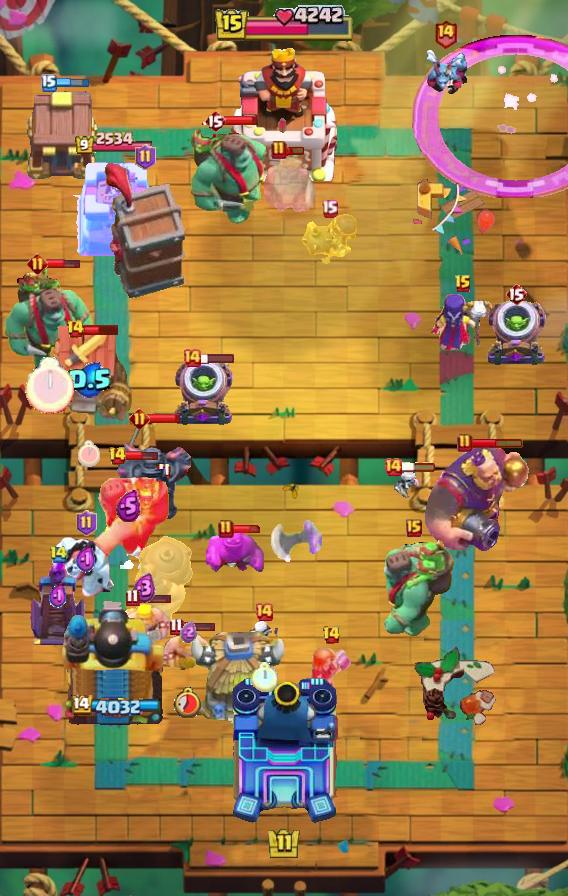archer: (116, 602, 172, 650), (164, 630, 212, 674)
axe: (429, 292, 497, 354)
bomb: (21, 88, 101, 182)
clock: (213, 5, 355, 45)
dart-goblin: (103, 161, 187, 299)
electro-spirit: (67, 362, 114, 398), (115, 490, 140, 522), (132, 573, 155, 603), (76, 545, 96, 575), (49, 583, 67, 610), (179, 621, 197, 643)
elixir: (25, 358, 75, 415), (173, 686, 203, 718), (251, 662, 278, 692), (78, 440, 100, 467)
emote: (472, 437, 525, 449), (83, 324, 120, 337), (46, 258, 82, 270), (199, 352, 235, 364), (124, 450, 160, 462), (401, 461, 437, 473), (137, 592, 172, 604), (55, 77, 90, 88), (181, 621, 216, 632), (224, 115, 258, 126), (147, 413, 181, 424), (231, 524, 263, 534), (285, 145, 305, 156)
goblin-ball: (299, 212, 359, 268)
goblin-cage: (484, 298, 548, 368), (172, 358, 236, 428)
golemite: (113, 417, 191, 521)
heal-spirit: (247, 618, 281, 654), (394, 470, 420, 499)
hog-rider: (310, 647, 352, 697)
ice-spirit-evolution-symbol: (28, 555, 88, 647)
king-tower: (228, 676, 340, 826), (231, 45, 337, 181)
knight-evolution: (412, 34, 568, 197)
lava-hound: (3, 263, 95, 375), (186, 118, 274, 228), (84, 459, 172, 569), (372, 536, 456, 642)
lightning: (420, 440, 532, 552)
mortar-evolution: (261, 151, 317, 217)
prince: (188, 632, 290, 728)
queen-tower: (69, 158, 159, 256)
rage: (54, 535, 118, 601)
royal-delivery: (423, 50, 467, 96)
royal-giant: (270, 518, 322, 568)
selected: (68, 694, 159, 717), (74, 131, 154, 156)
sparky: (46, 325, 132, 423)
text: (433, 18, 458, 49), (135, 144, 156, 170), (75, 510, 96, 536), (204, 109, 226, 133), (505, 282, 527, 306), (27, 253, 48, 275), (130, 407, 151, 429), (182, 348, 202, 368), (383, 457, 403, 477), (254, 602, 274, 622), (322, 625, 342, 645), (67, 319, 86, 339), (108, 446, 127, 466), (49, 545, 68, 564), (454, 274, 472, 294), (321, 199, 339, 217), (271, 140, 287, 160), (457, 433, 473, 453), (218, 519, 234, 539), (41, 74, 57, 92), (406, 519, 422, 537), (124, 589, 139, 608), (169, 617, 183, 636)
tornado: (206, 527, 264, 573)
tower-bar: (58, 595, 170, 731)
wizard: (114, 534, 196, 648)
